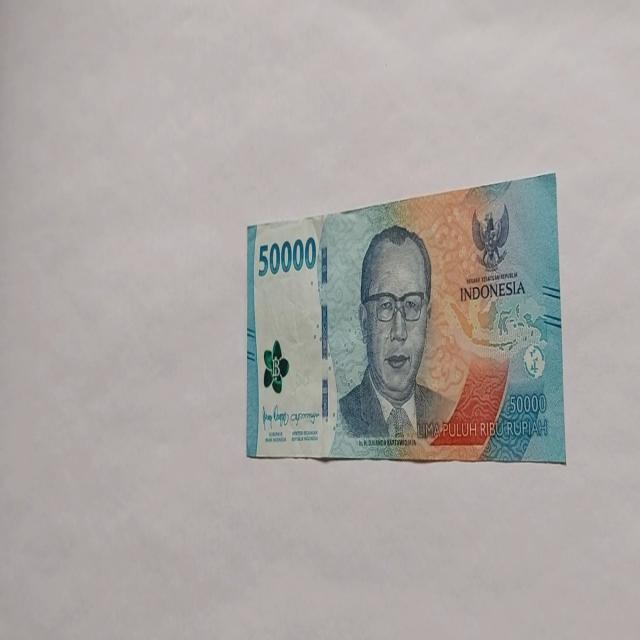lima puluh ribu rupiah: (244, 172, 566, 464), (332, 224, 456, 451)
